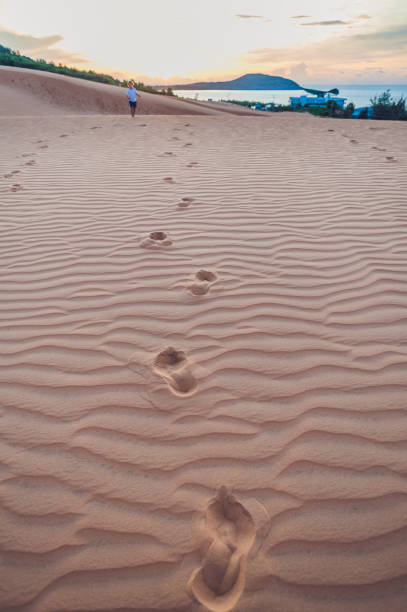human_footprint: (187, 487, 255, 611), (153, 346, 196, 395), (187, 269, 216, 294), (140, 231, 171, 248), (177, 197, 193, 207), (10, 184, 22, 191), (386, 156, 397, 162), (163, 177, 174, 183), (186, 162, 198, 167)
